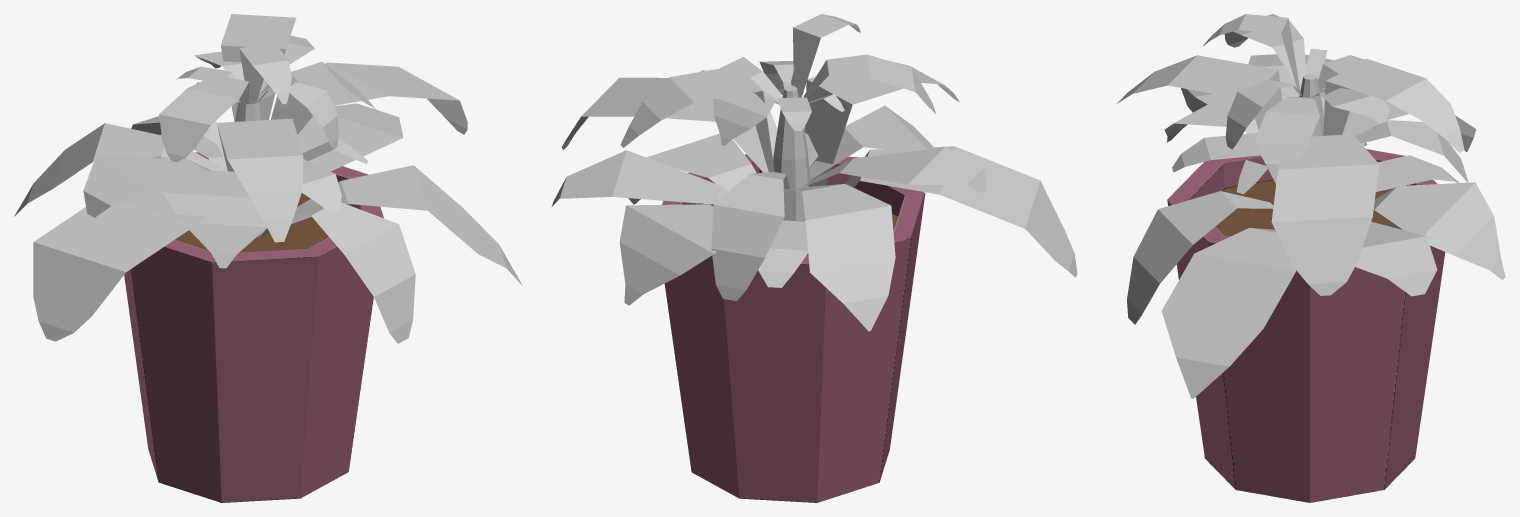
The model's file is plant.fbx.
The picture shows the model from 3 angles, left to right: view 1: azimuth 30°, elevation 25°; view 2: azimuth 150°, elevation 25°; view 3: azimuth 270°, elevation 25°; orthographic projection. The views are drawn at different scales.
Visible parts, largest first — view 1: LEAVES, pot; view 2: LEAVES, pot; view 3: LEAVES, pot.
Boxes of the visible parts, left/top/right/bottom form: LEAVES: left=14, top=14, right=522, bottom=343; pot: left=124, top=152, right=383, bottom=502; LEAVES: left=551, top=14, right=1077, bottom=331; pot: left=662, top=154, right=925, bottom=502; LEAVES: left=1117, top=14, right=1505, bottom=398; pot: left=1167, top=149, right=1445, bottom=502.
Bounding box in the file's own units: 382 × 333 × 280.
